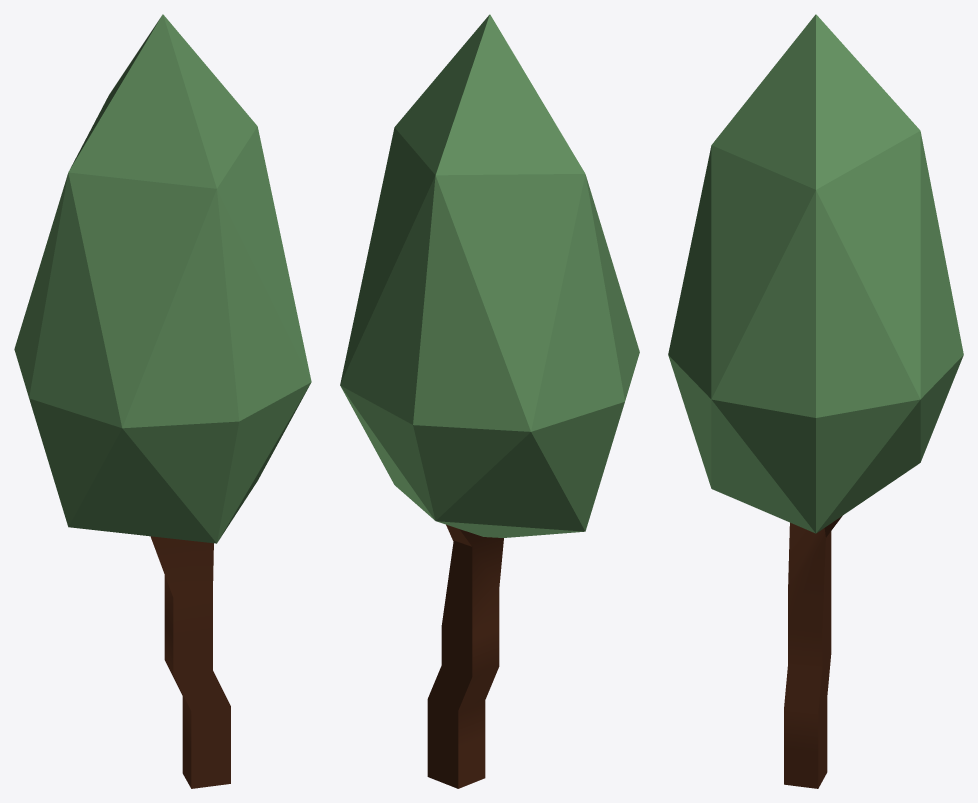
Rendered from tree.fbx.
The picture shows the model from 3 angles, left to right: view 1: azimuth 30°, elevation 25°; view 2: azimuth 150°, elevation 25°; view 3: azimuth 270°, elevation 25°; orthographic projection. The views are drawn at different scales.
Visible parts, largest first — view 1: Tree 01; view 2: Tree 01; view 3: Tree 01.
Part boxes in pixels (left/top/right/bottom): Tree 01: left=14, top=14, right=311, bottom=788; Tree 01: left=340, top=14, right=639, bottom=788; Tree 01: left=668, top=14, right=963, bottom=788.
Size of the model in its own units: 53.78 by 148 by 53.08.
